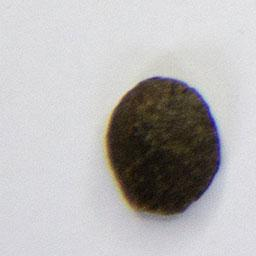defect: (103, 73, 223, 219)
